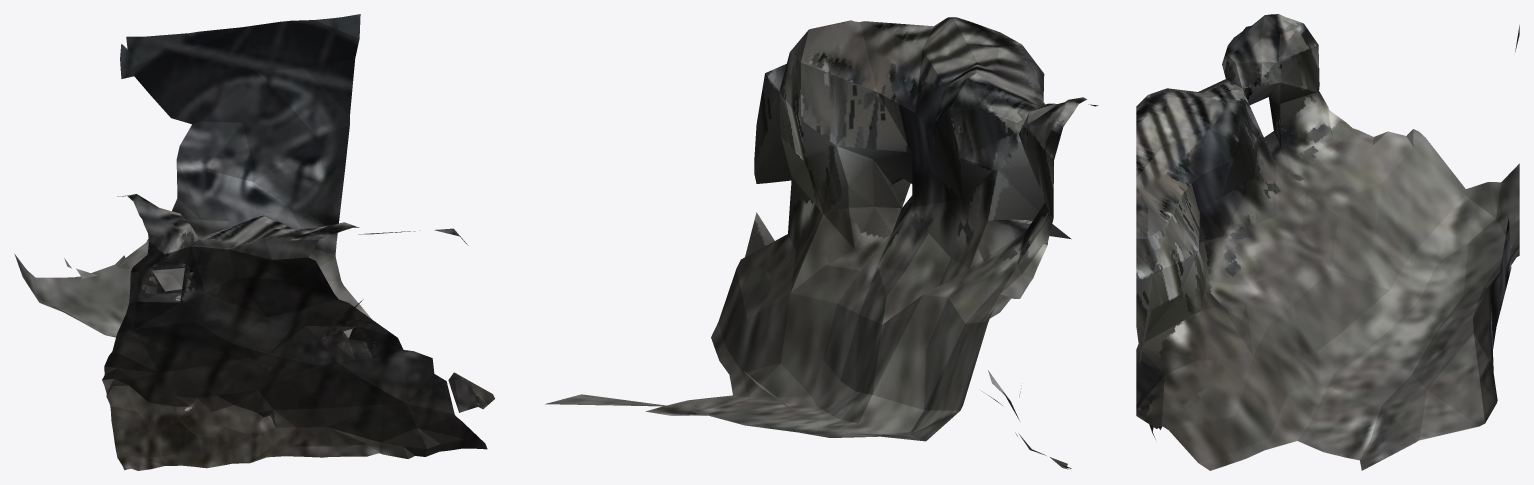
The picture shows the model from 3 angles, left to right: view 1: azimuth 30°, elevation 25°; view 2: azimuth 150°, elevation 25°; view 3: azimuth 270°, elevation 25°; orthographic projection. The views are drawn at different scales.
Size of the model in its own units: 0.8373 by 0.8374 by 0.8374.
5 materials, 5 textured.
